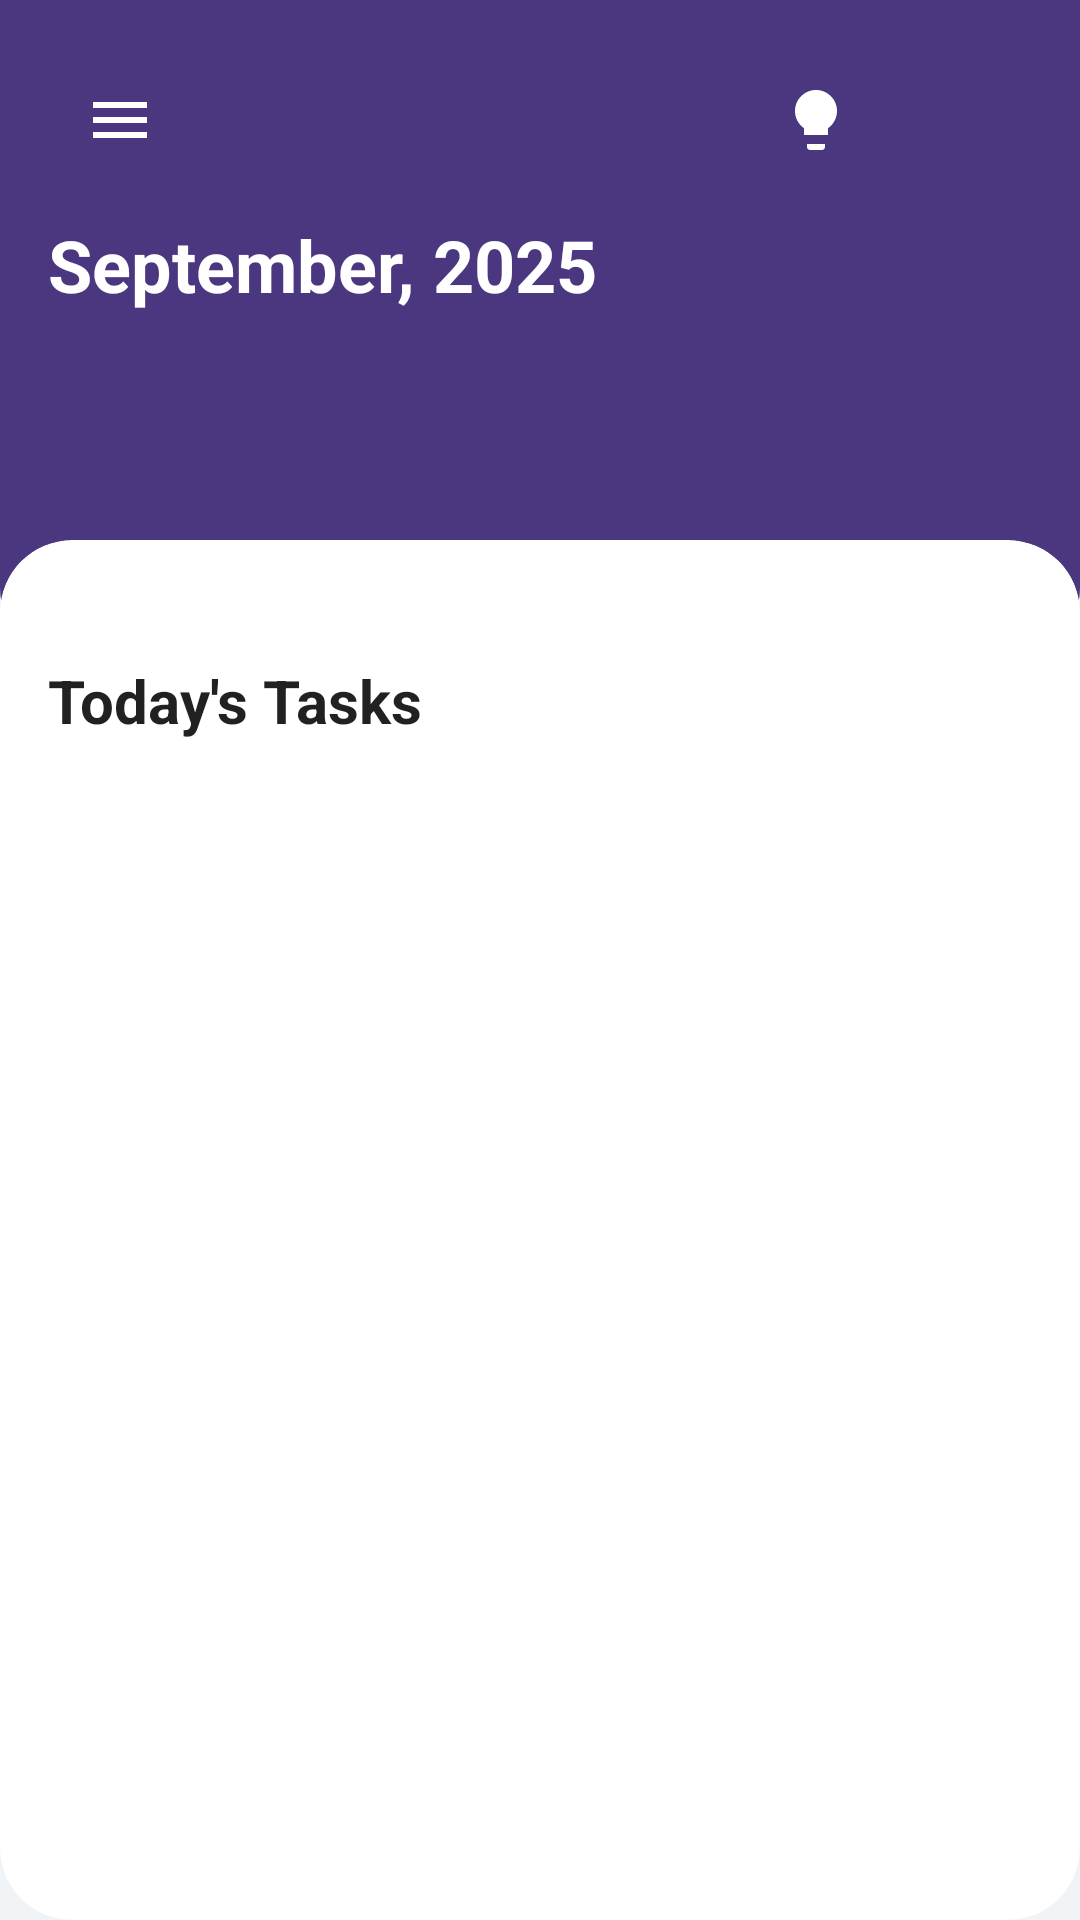

Icons on this 1080×1920 Android screen, each with its box as (x1, y1, x2, y2):
Menu: (93, 102, 147, 138)
Ubah Tema: (795, 90, 837, 150)
